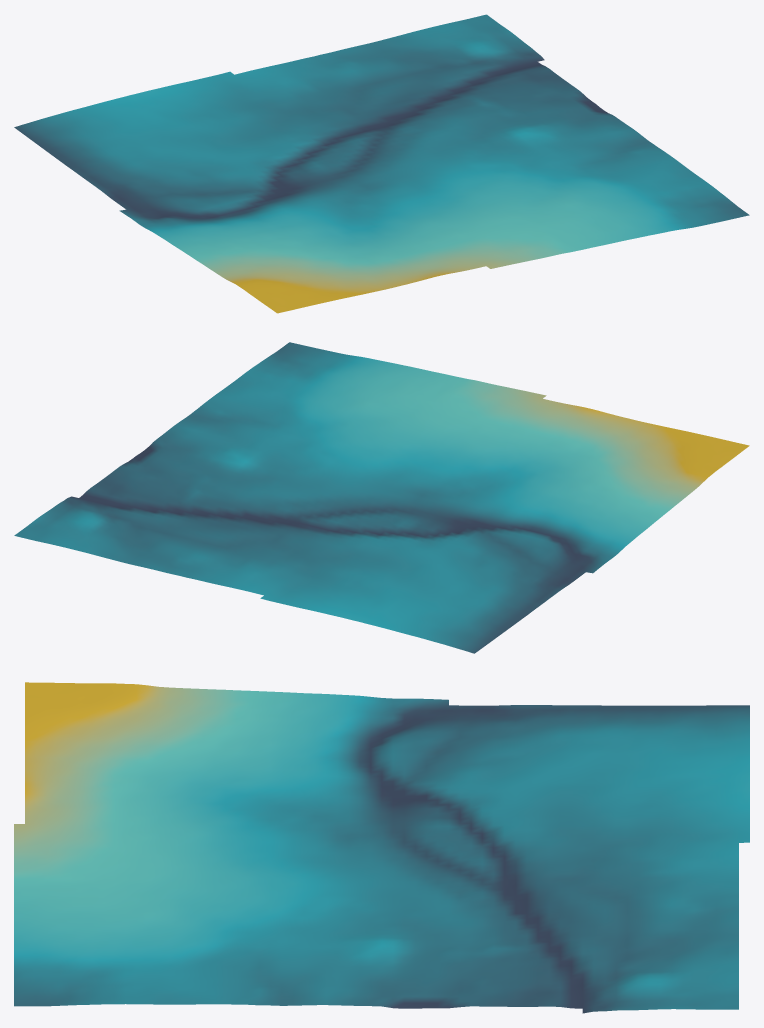
Rendered from terrain.glb.
3 renders of one model, top to bottom at view 1: azimuth 30°, elevation 25°; view 2: azimuth 150°, elevation 25°; view 3: azimuth 270°, elevation 25°, orthographic. The views are drawn at different scales.
Parts seen in each view (by area): view 1: terrain-chunk-0000; view 2: terrain-chunk-0000; view 3: terrain-chunk-0000.
Boxes of the visible parts, <box> form: terrain-chunk-0000: <box>14,14,749,313</box>; terrain-chunk-0000: <box>14,342,749,653</box>; terrain-chunk-0000: <box>14,682,749,1013</box>.
Size of the model in its own units: 2029 by 60.93 by 2029.
